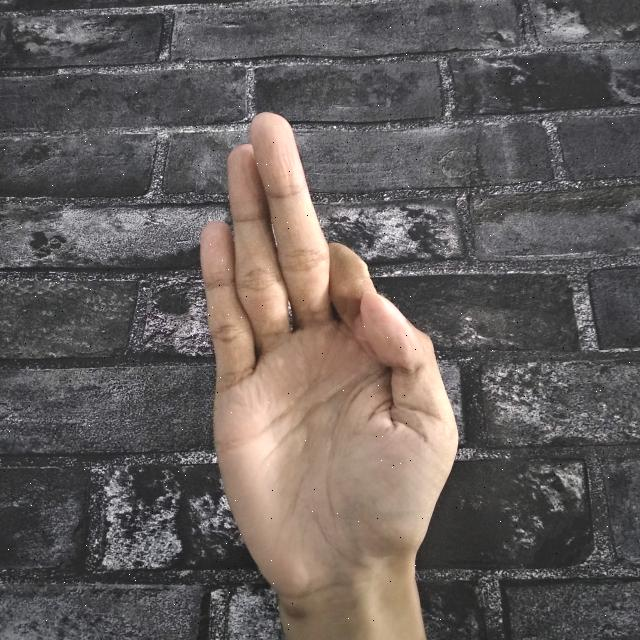F: (194, 105, 470, 640)
